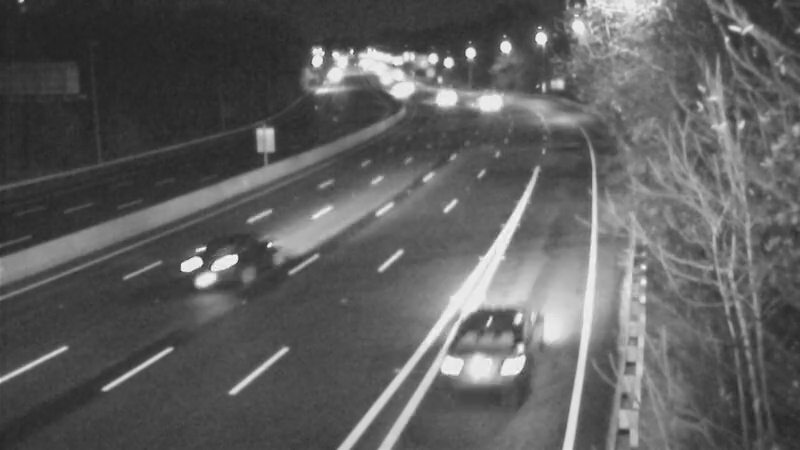vehicle: (421, 311, 531, 421), (163, 246, 243, 326), (416, 72, 466, 122), (462, 75, 512, 125)
